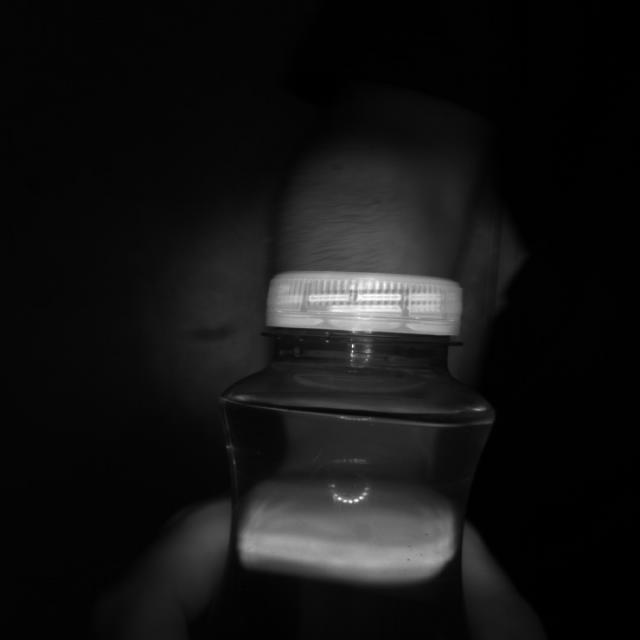Good: (264, 268, 470, 340)
